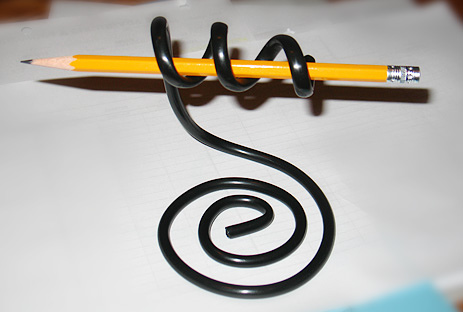pen_tip: (11, 45, 86, 81)
